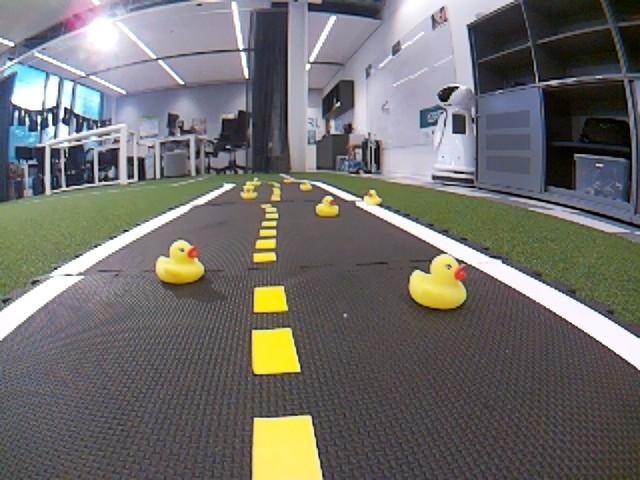Duckies: (408, 254, 467, 311), (158, 240, 205, 284), (316, 196, 339, 217), (240, 185, 256, 200), (366, 190, 383, 204), (300, 182, 311, 190), (253, 179, 261, 185)
